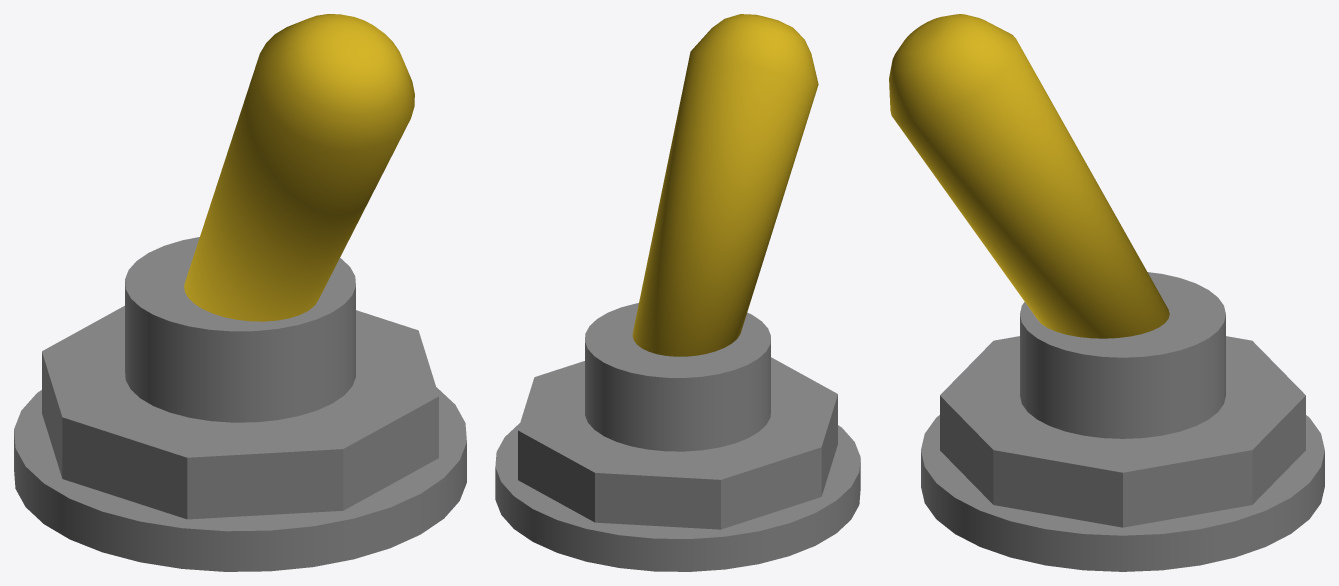
Rendered from bouton FlipFlop 1 v2.glb.
The picture shows the model from 3 angles, left to right: view 1: azimuth 30°, elevation 25°; view 2: azimuth 150°, elevation 25°; view 3: azimuth 270°, elevation 25°; orthographic projection. The views are drawn at different scales.
Parts seen in each view (by area): view 1: Base FlipFlop 1, FlipFlop 1; view 2: Base FlipFlop 1, FlipFlop 1; view 3: Base FlipFlop 1, FlipFlop 1.
Boxes of the visible parts, x1=… form: Base FlipFlop 1: x1=14, y1=237, x2=466, y2=571; FlipFlop 1: x1=184, y1=14, x2=414, y2=321; Base FlipFlop 1: x1=495, y1=303, x2=860, y2=571; FlipFlop 1: x1=632, y1=14, x2=818, y2=356; Base FlipFlop 1: x1=921, y1=272, x2=1324, y2=571; FlipFlop 1: x1=889, y1=14, x2=1169, y2=338.
Size of the model in its own units: 0.1415 by 0.1797 by 0.1527.
